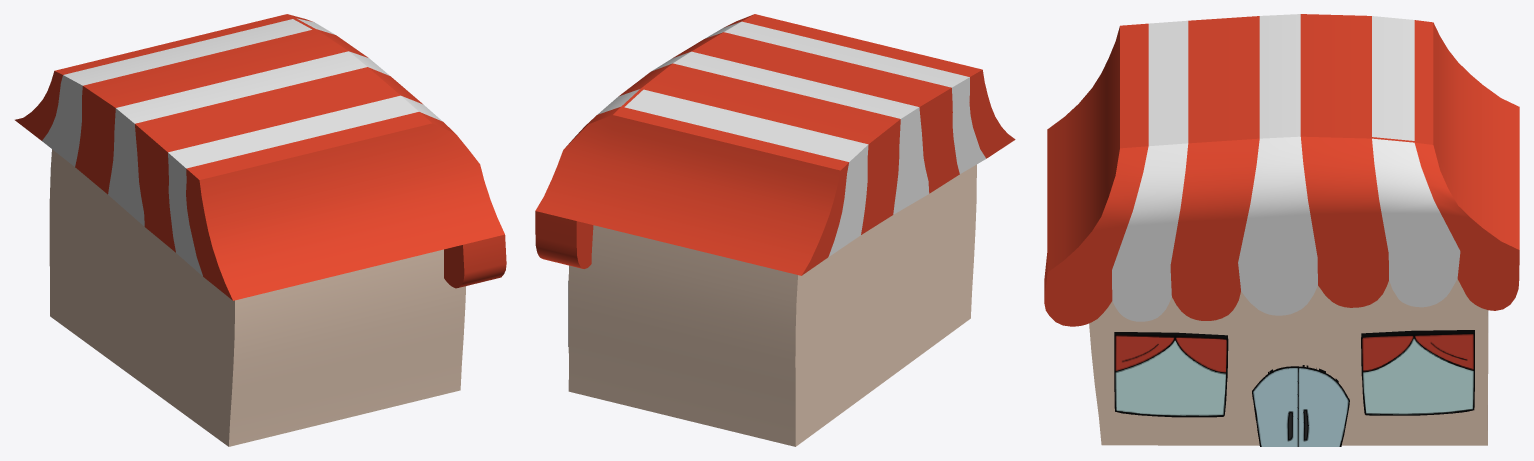
Rendered from Building No 2.fbx.
The picture shows the model from 3 angles, left to right: view 1: azimuth 30°, elevation 25°; view 2: azimuth 150°, elevation 25°; view 3: azimuth 270°, elevation 25°; orthographic projection. The views are drawn at different scales.
Visible parts, largest first — view 1: Roof, Building 3; view 2: Roof, Building 3; view 3: Roof, Building 3, Plane.001, Plane, Plane.002.
Boxes of the visible parts, <box> form: Roof: <box>15,14,506,300</box>; Building 3: <box>49,149,466,446</box>; Roof: <box>535,14,1015,275</box>; Building 3: <box>568,164,976,446</box>; Roof: <box>1044,14,1519,326</box>; Building 3: <box>1089,279,1488,445</box>; Plane.001: <box>1361,330,1474,415</box>; Plane: <box>1114,332,1228,417</box>; Plane.002: <box>1252,365,1349,446</box>.
Bounding box in the file's own units: 235 × 228 × 329.
